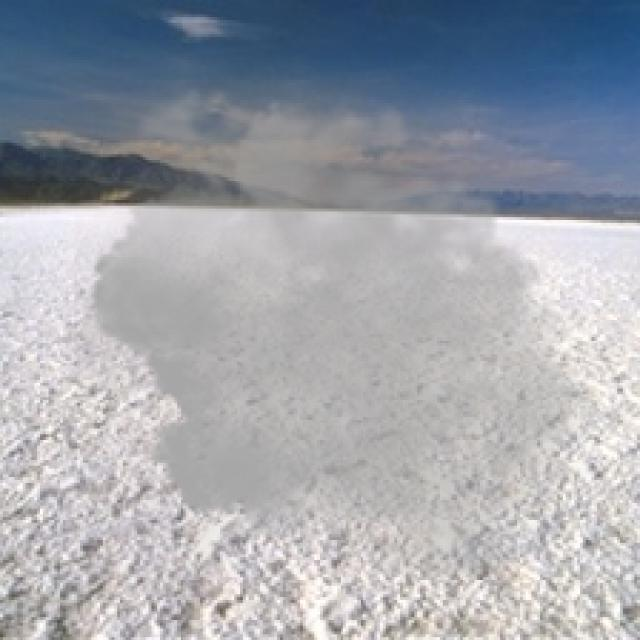Smoke: (74, 72, 620, 598)
